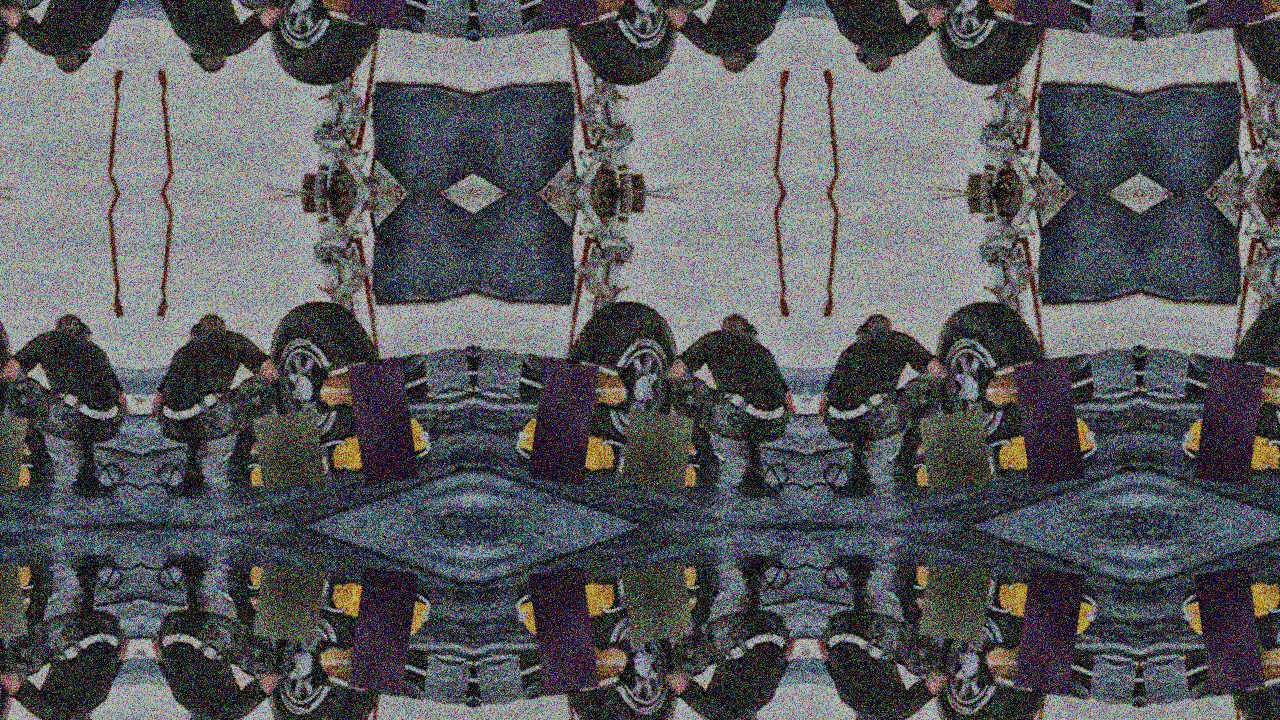chock: (310, 353, 429, 414), (518, 353, 636, 414), (977, 353, 1095, 414), (310, 640, 429, 700), (518, 640, 636, 700), (977, 640, 1095, 700), (327, 577, 435, 638), (512, 577, 620, 638), (994, 577, 1102, 638), (327, 416, 435, 476), (512, 416, 620, 476), (994, 416, 1102, 476), (1178, 577, 1280, 638), (1178, 416, 1280, 476), (1185, 353, 1280, 414), (1185, 640, 1280, 700), (612, 423, 704, 470), (243, 423, 334, 470), (910, 423, 1001, 470), (612, 584, 704, 630), (243, 584, 334, 630), (910, 584, 1001, 630), (615, 444, 701, 492), (615, 561, 701, 609), (246, 444, 331, 492), (913, 444, 998, 492), (246, 561, 331, 609), (913, 561, 998, 609), (310, 0, 429, 34), (518, 0, 636, 34), (977, 0, 1095, 34), (1185, 0, 1280, 34), (0, 423, 37, 470), (0, 584, 37, 630), (0, 444, 34, 492), (0, 561, 34, 609)
wheel: (258, 294, 391, 456), (555, 294, 688, 456), (925, 294, 1058, 456), (258, 598, 391, 720), (555, 598, 688, 720), (925, 598, 1058, 720), (258, 0, 391, 93), (555, 0, 688, 93), (925, 0, 1058, 93), (1222, 294, 1280, 456), (1222, 598, 1280, 720), (1222, 0, 1280, 93), (0, 294, 22, 456), (0, 598, 22, 720), (0, 0, 22, 93)
